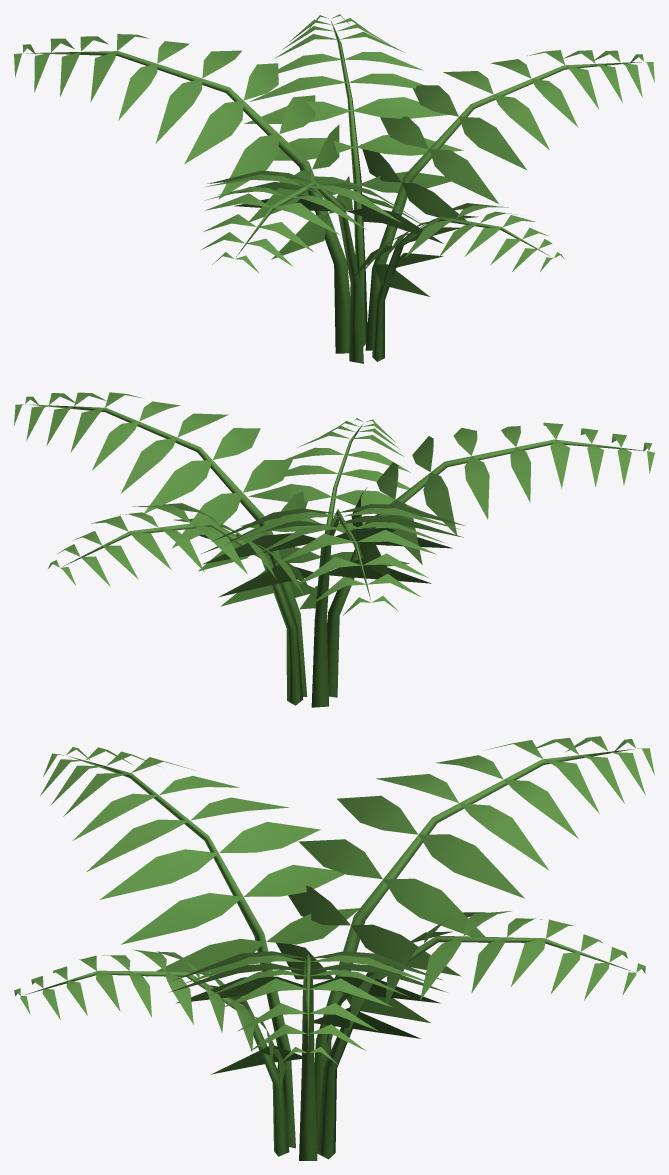
The model's file is pack03_foliage2_07.fbx.
The picture shows the model from 3 angles, top to bottom: view 1: azimuth 30°, elevation 25°; view 2: azimuth 150°, elevation 25°; view 3: azimuth 270°, elevation 25°; orthographic projection. The views are drawn at different scales.
Visible parts, largest first — view 1: Grass.012; view 2: Grass.012; view 3: Grass.012.
Part boxes in pixels (x1,y1,x2,y2): Grass.012: (14, 14, 654, 363); Grass.012: (14, 392, 654, 707); Grass.012: (14, 736, 654, 1160).
Size of the model in its own units: 139 by 67.39 by 124.
Materials: 1 (1 with a texture image).
